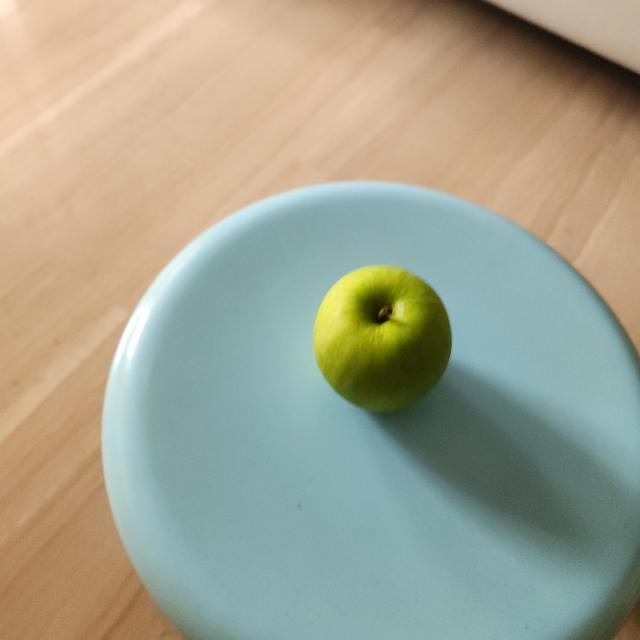apple: (310, 258, 456, 424)
